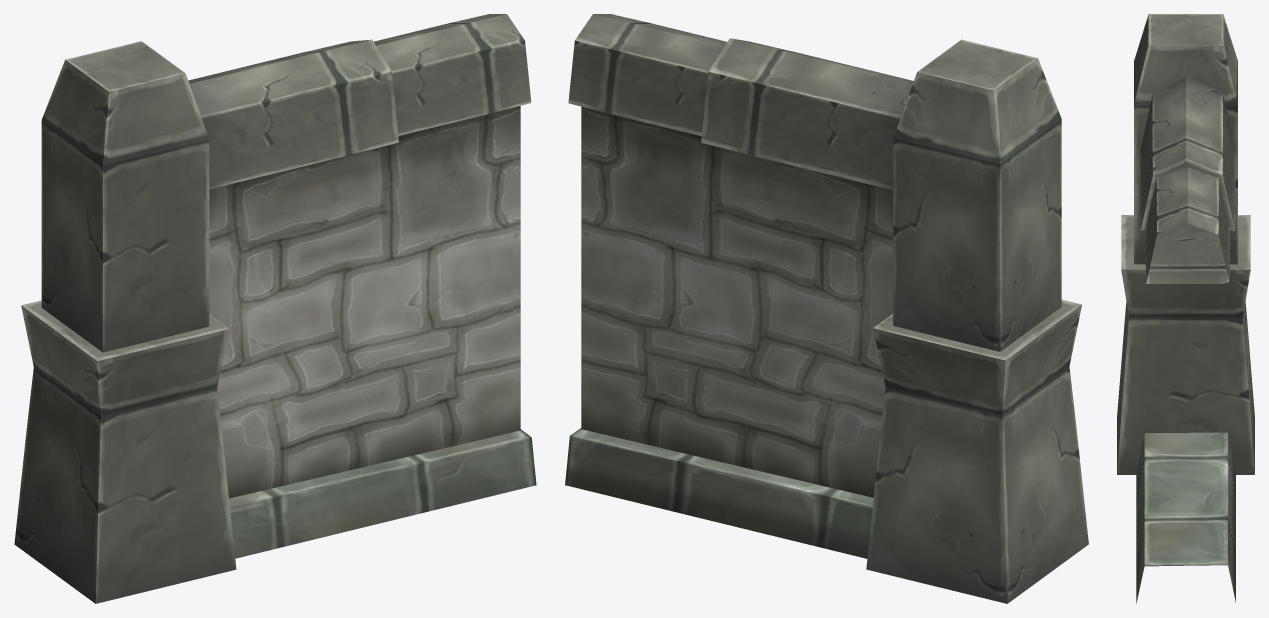
The model's file is wall_02_end_03.fbx.
The picture shows the model from 3 angles, left to right: view 1: azimuth 30°, elevation 25°; view 2: azimuth 150°, elevation 25°; view 3: azimuth 270°, elevation 25°; orthographic projection. The views are drawn at different scales.
Parts seen in each view (by area): view 1: wall_02_end_03:Mesh; view 2: wall_02_end_03:Mesh; view 3: wall_02_end_03:Mesh.
Part boxes in pixels (<box>): wall_02_end_03:Mesh: <box>14,14,536,603</box>; wall_02_end_03:Mesh: <box>565,14,1088,603</box>; wall_02_end_03:Mesh: <box>1117,14,1254,603</box>.
Size of the model in its own units: 2.71 by 2.81 by 0.8432.
